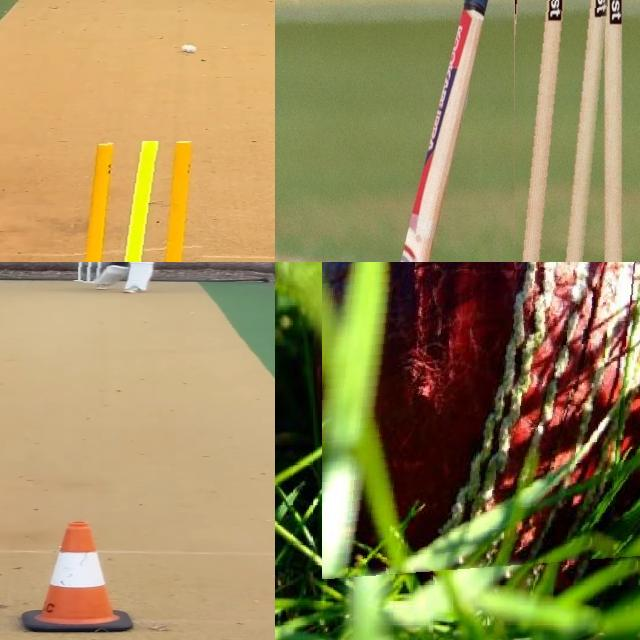Cricket ball: (322, 262, 640, 583), (180, 43, 197, 54)
Stumps: (514, 0, 622, 262), (74, 140, 215, 262), (78, 262, 107, 283)
